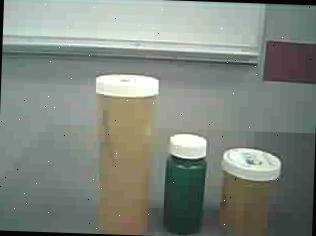Bottle A: (85, 69, 160, 236)
Bottle B: (216, 145, 282, 236)
Bottle C: (160, 131, 211, 236)
